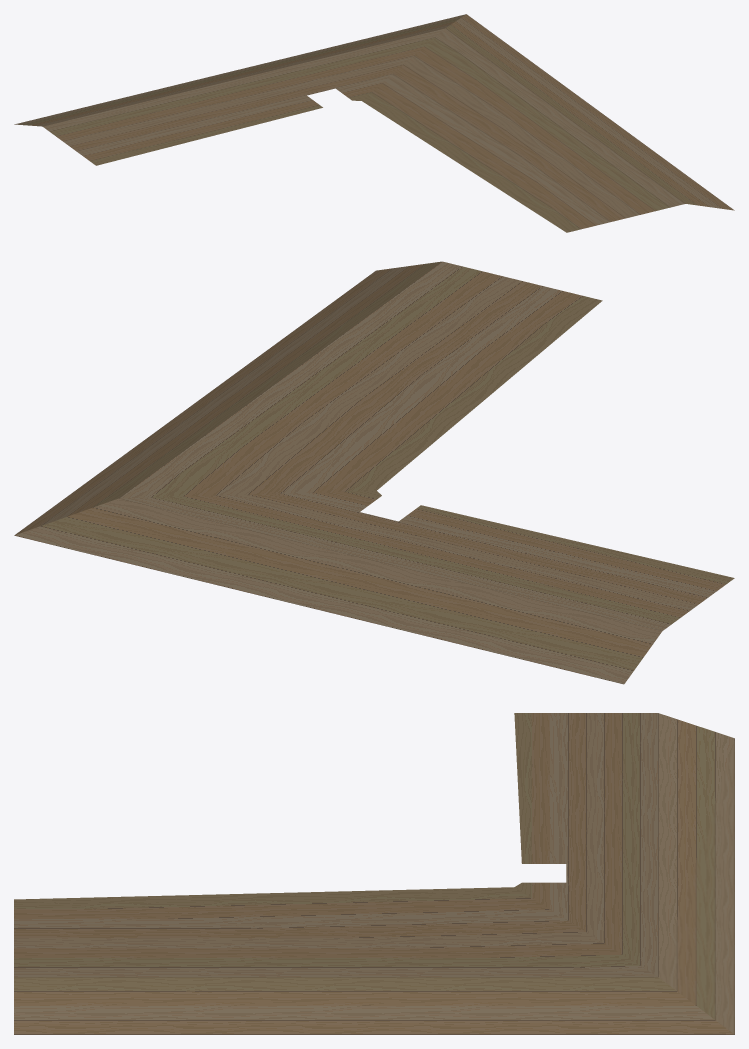
File: kd_stage_135c43_4_22_bounded_piece_1.glb
3 renders of one model, top to bottom at view 1: azimuth 30°, elevation 25°; view 2: azimuth 150°, elevation 25°; view 3: azimuth 270°, elevation 25°, orthographic. The views are drawn at different scales.
Visible parts, largest first — view 1: kd_stage_135c43_4_22_bounded_piece_1; view 2: kd_stage_135c43_4_22_bounded_piece_1; view 3: kd_stage_135c43_4_22_bounded_piece_1.
Part boxes in pixels (x1,y1,x2,y2): kd_stage_135c43_4_22_bounded_piece_1: (14,14,734,232); kd_stage_135c43_4_22_bounded_piece_1: (14,261,734,684); kd_stage_135c43_4_22_bounded_piece_1: (14,713,734,1034).
Bounding box in the file's own units: 5.52 × 0.2187 × 5.67.
Materials: 1 (1 with a texture image).
